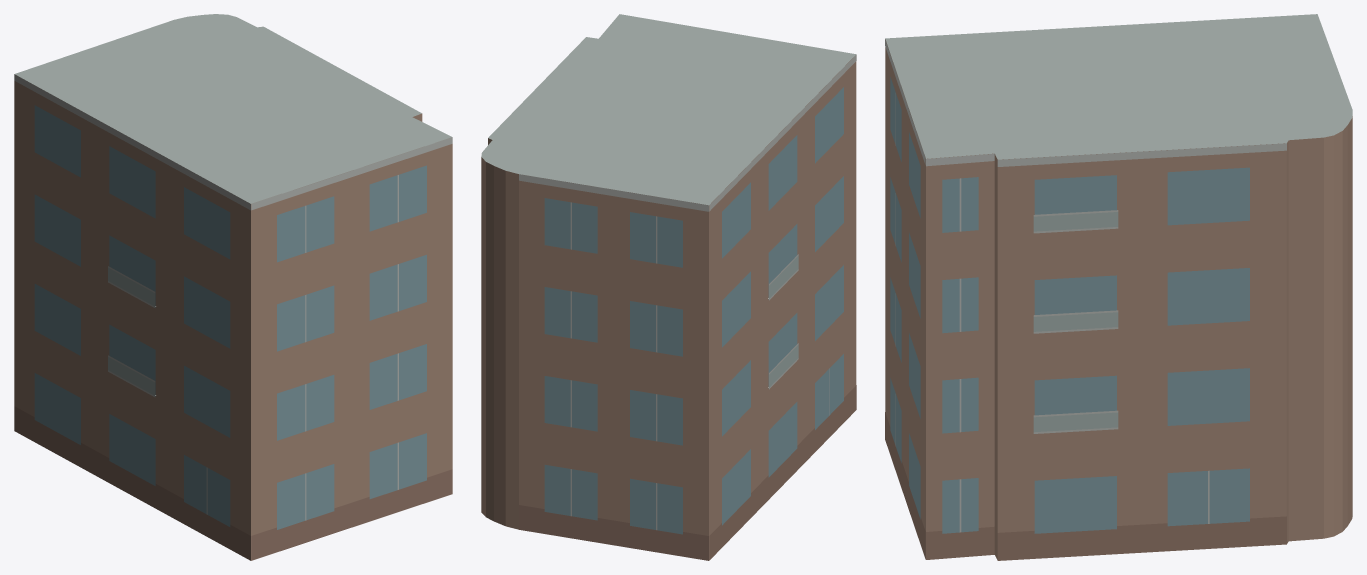
The model's file is survey-upis-32709193.glb.
3 views of the same model, side by side, from view 1: azimuth 30°, elevation 25°; view 2: azimuth 150°, elevation 25°; view 3: azimuth 270°, elevation 25° (orthographic). The views are drawn at different scales.
Parts seen in each view (by area): view 1: survey-upis-32709193.tmp; view 2: survey-upis-32709193.tmp; view 3: survey-upis-32709193.tmp.
Boxes of the visible parts, bbox=[...] form: survey-upis-32709193.tmp: bbox=[14, 14, 452, 560]; survey-upis-32709193.tmp: bbox=[481, 14, 856, 560]; survey-upis-32709193.tmp: bbox=[885, 14, 1352, 560].
Bounding box in the file's own units: 10.29 × 13.2 × 13.95.
